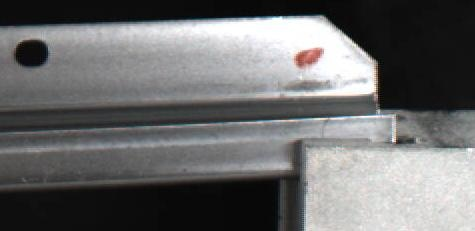cut: (243, 13, 396, 174)
holes: (12, 37, 50, 68)
